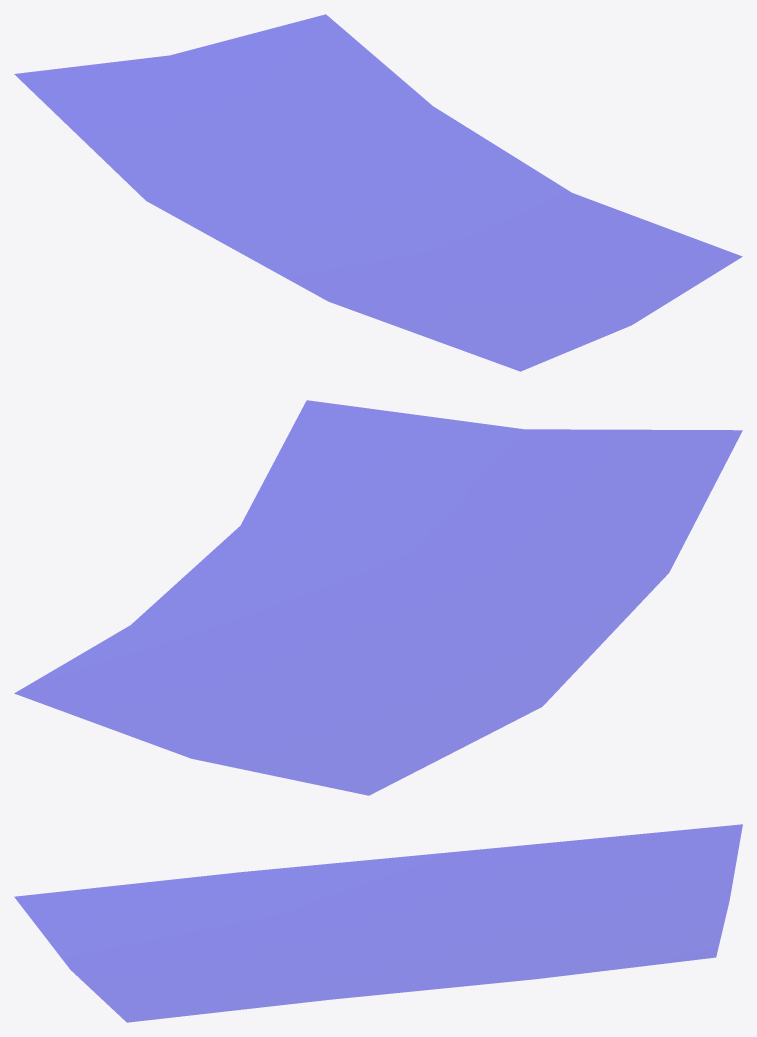
File: track_la_coll_road_45.fbx
3 views of the same model, one above another, from view 1: azimuth 30°, elevation 25°; view 2: azimuth 150°, elevation 25°; view 3: azimuth 270°, elevation 25° (orthographic). The views are drawn at different scales.
Parts seen in each view (by area): view 1: track_la_coll_road_45; view 2: track_la_coll_road_45; view 3: track_la_coll_road_45.
Boxes of the visible parts, x1=… form: track_la_coll_road_45: x1=14, y1=14, x2=742, y2=371; track_la_coll_road_45: x1=14, y1=400, x2=742, y2=795; track_la_coll_road_45: x1=14, y1=824, x2=742, y2=1022.
Size of the model in its own units: 27.9 by 3.04 by 49.54.
